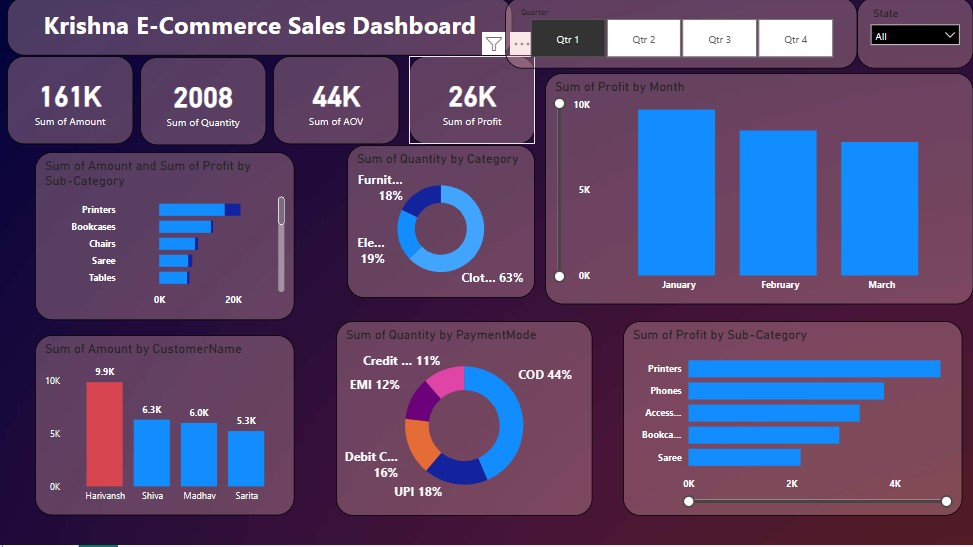

What the dashboard file says about the page in this screenshot:
{"tool":"powerbi","page":{"name":"Page 1","canvas":[1280,720],"ordinal":0},"visuals":[{"type":"textbox","box":[10,0,664.3,77.1],"z":0},{"type":"columnChart","fields":{"Y":["Sum(Details.Profit)"],"Category":["Orders.Order Date.Variation.Date Hierarchy.Month"]},"box":[717.1,100,562.9,304.3],"z":1000},{"type":"barChart","fields":{"Category":["Details.Sub-Category"],"Y":["Sum(Details.Profit)"]},"box":[820,425.7,445.7,255.7],"z":2000},{"type":"donutChart","fields":{"Category":["Details.Category"],"Y":["Sum(Details.Quantity)"]},"box":[457.1,194.3,247.1,201.4],"z":3000},{"type":"donutChart","fields":{"Y":["Sum(Details.Quantity)"],"Category":["Details.PaymentMode"]},"box":[442.9,425.7,337.1,255.7],"z":4000},{"type":"card","fields":{"Values":["Sum(Details.Amount)"]},"box":[10,77.1,165.7,115.7],"z":5000},{"type":"card","fields":{"Values":["Sum(Details.Quantity)"]},"box":[185.7,78.6,165.7,115.7],"z":6000},{"type":"card","fields":{"Values":["Sum(Details.Profit)"]},"box":[538.6,77.1,165.7,115.7],"z":7000},{"type":"card","fields":{"Values":["Sum(Details.AOV)"]},"box":[360,77.1,165.7,115.7],"z":8000},{"type":"barChart","fields":{"Category":["Details.Sub-Category","Orders.State"],"Y":["Sum(Details.Amount)","Sum(Details.Profit)"]},"box":[47.1,204.3,341.4,221.4],"z":9000},{"type":"columnChart","fields":{"Category":["Orders.CustomerName"],"Y":["Sum(Details.Amount)"]},"box":[47.1,444.3,341.4,237.1],"z":10000},{"type":"slicer","fields":{"Values":["Orders.Order Date.Variation.Date Hierarchy.Quarter"]},"box":[664.3,0,462.9,94.3],"z":11000},{"type":"slicer","fields":{"Values":["Orders.State"]},"box":[1127.1,0,152.9,94.3],"z":12000}]}

Visuals, with their boxes in screenshot pixels (x1, y1, x2, y2), scaled from the page's 1280x720 canvas onto the 973x547 screenshot:
textbox: bbox=(8, 0, 513, 59)
columnChart - Sum(Details.Profit) x Orders.Order Date.Variation.Date Hierarchy.Month: bbox=(545, 76, 972, 307)
barChart - Details.Sub-Category x Sum(Details.Profit): bbox=(623, 323, 962, 518)
donutChart - Details.Category x Sum(Details.Quantity): bbox=(347, 148, 535, 301)
donutChart - Sum(Details.Quantity) x Details.PaymentMode: bbox=(337, 323, 593, 518)
card - Sum(Details.Amount): bbox=(8, 59, 134, 146)
card - Sum(Details.Quantity): bbox=(141, 60, 267, 148)
card - Sum(Details.Profit): bbox=(409, 59, 535, 146)
card - Sum(Details.AOV): bbox=(274, 59, 400, 146)
barChart - Details.Sub-Category x Orders.State: bbox=(36, 155, 295, 323)
columnChart - Orders.CustomerName x Sum(Details.Amount): bbox=(36, 338, 295, 518)
slicer - Orders.Order Date.Variation.Date Hierarchy.Quarter: bbox=(505, 0, 857, 72)
slicer - Orders.State: bbox=(857, 0, 972, 72)
